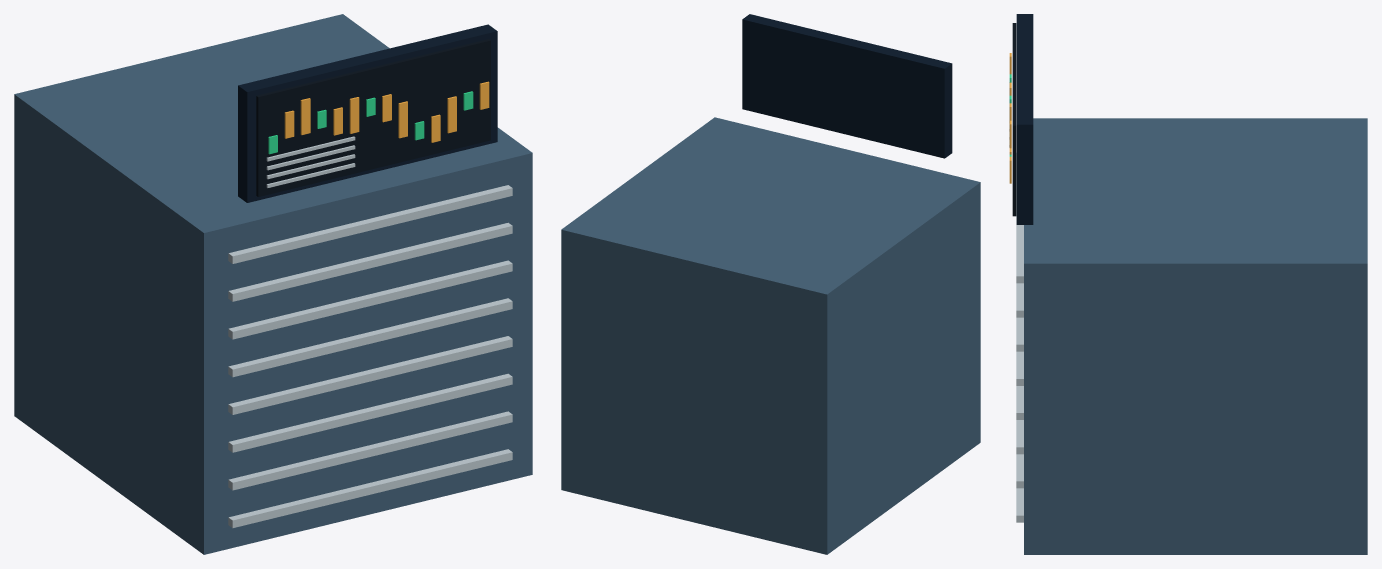
The model's file is 02_L77_CopperPlatedWaferCassette.fbx.
The picture shows the model from 3 angles, left to right: view 1: azimuth 30°, elevation 25°; view 2: azimuth 150°, elevation 25°; view 3: azimuth 270°, elevation 25°; orthographic projection. The views are drawn at different scales.
Parts seen in each view (by area): view 1: CopperPlatedWaferCassette; view 2: CopperPlatedWaferCassette; view 3: CopperPlatedWaferCassette.
Boxes of the visible parts, bbox=[...] form: CopperPlatedWaferCassette: bbox=[14, 14, 532, 554]; CopperPlatedWaferCassette: bbox=[561, 14, 980, 554]; CopperPlatedWaferCassette: bbox=[1009, 14, 1367, 554].
Size of the model in its own units: 155 by 206 by 162.
